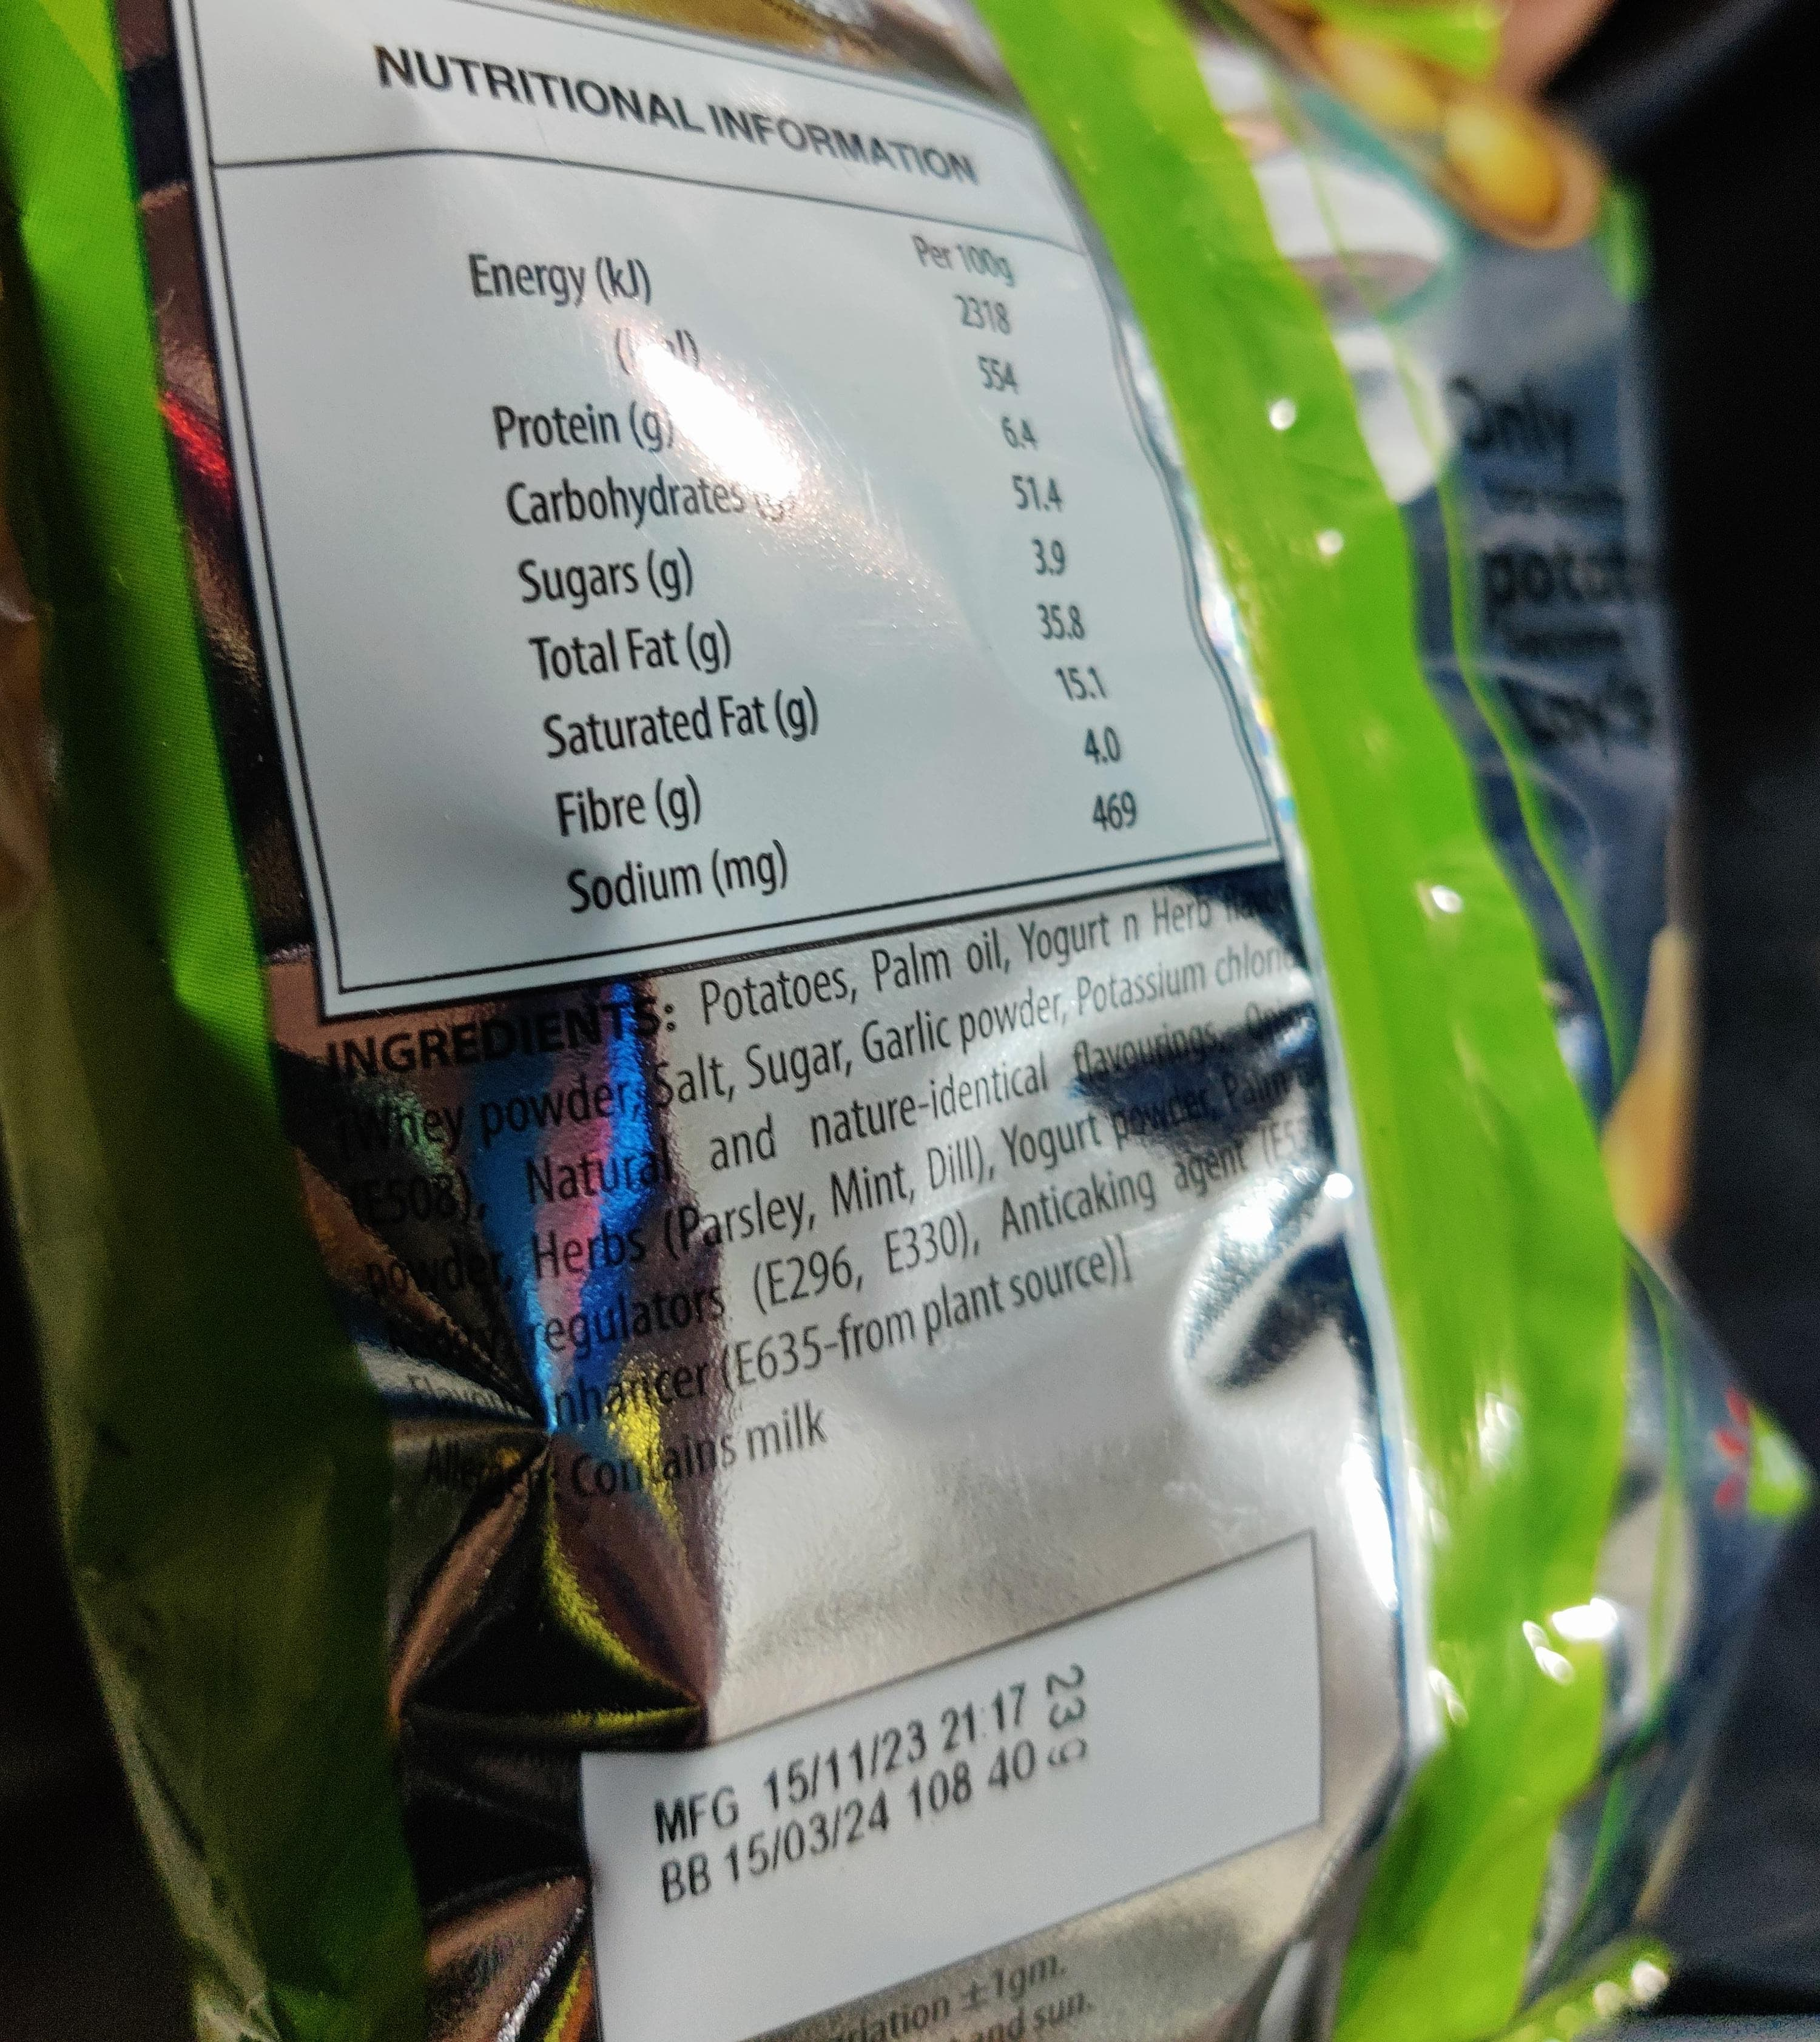table: (170, 0, 1265, 1019)
